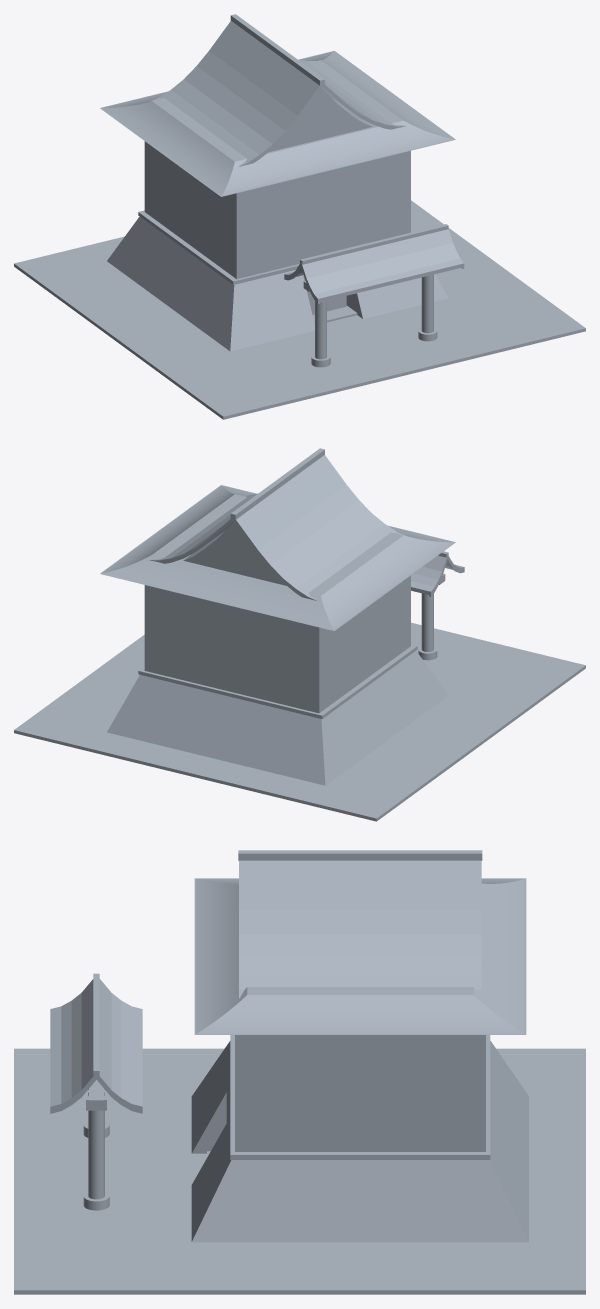
File: sakura.glb
3 renders of one model, top to bottom at view 1: azimuth 30°, elevation 25°; view 2: azimuth 150°, elevation 25°; view 3: azimuth 270°, elevation 25°, orthographic. The views are drawn at different scales.
Parts seen in each view (by area): view 1: sakura-lawn-canteiro, sakura-lime-paredes, sakura-redTile-saia-do-telhado, sakura-fieldstone-embasamento, sakura-redTile-telhado-alto, sakura-redTile-telhado-do-portal, sakura-fieldstone-frontoes, sakura-fieldstone-beiralBase, sakura-vermilion-testeira-frontal, sakura-vermilion-cumeeira, sakura-vermilion-cumeeira-do-portal, sakura-vermilion-beiral-curvo (+2 smaller); view 2: sakura-lawn-canteiro, sakura-lime-paredes, sakura-fieldstone-embasamento, sakura-redTile-saia-do-telhado, sakura-redTile-telhado-alto, sakura-fieldstone-frontoes, sakura-fieldstone-beiralBase, sakura-vermilion-cumeeira, sakura-vermilion-testeira-traseira, sakura-redTile-telhado-do-portal, sakura-vermilion-beiral-curvo, sakura-vermilion-coluna-esq; view 3: sakura-lawn-canteiro, sakura-fieldstone-embasamento, sakura-redTile-telhado-alto, sakura-lime-paredes, sakura-redTile-saia-do-telhado, sakura-redTile-telhado-do-portal, sakura-fieldstone-beiralBase, sakura-vermilion-cumeeira, sakura-vermilion-coluna-dir, sakura-vermilion-beiral-curvo, sakura-vermilion-portal-detalhe-direito, sakura-vermilion-cumeeira-do-portal.
Part boxes in pixels (bbox=[...]): sakura-lawn-canteiro: bbox=[14, 200, 585, 419]; sakura-lime-paredes: bbox=[144, 141, 410, 279]; sakura-redTile-saia-do-telhado: bbox=[101, 51, 455, 196]; sakura-fieldstone-embasamento: bbox=[107, 216, 448, 351]; sakura-redTile-telhado-alto: bbox=[159, 21, 398, 163]; sakura-redTile-telhado-do-portal: bbox=[286, 229, 463, 302]; sakura-fieldstone-frontoes: bbox=[268, 88, 372, 152]; sakura-fieldstone-beiralBase: bbox=[138, 210, 411, 284]; sakura-vermilion-testeira-frontal: bbox=[238, 85, 406, 166]; sakura-vermilion-cumeeira: bbox=[230, 14, 324, 85]; sakura-vermilion-cumeeira-do-portal: bbox=[300, 224, 448, 264]; sakura-vermilion-beiral-curvo: bbox=[100, 51, 455, 196]; sakura-lawn-canteiro: bbox=[14, 622, 585, 821]; sakura-lime-paredes: bbox=[144, 575, 410, 713]; sakura-fieldstone-embasamento: bbox=[107, 651, 448, 785]; sakura-redTile-saia-do-telhado: bbox=[101, 485, 453, 630]; sakura-redTile-telhado-alto: bbox=[158, 455, 399, 597]; sakura-fieldstone-frontoes: bbox=[183, 522, 286, 585]; sakura-fieldstone-beiralBase: bbox=[138, 644, 417, 718]; sakura-vermilion-cumeeira: bbox=[230, 448, 324, 519]; sakura-vermilion-testeira-traseira: bbox=[150, 519, 316, 600]; sakura-redTile-telhado-do-portal: bbox=[411, 555, 461, 594]; sakura-vermilion-beiral-curvo: bbox=[100, 485, 455, 630]; sakura-vermilion-coluna-esq: bbox=[421, 593, 433, 651]; sakura-lawn-canteiro: bbox=[14, 1048, 585, 1294]; sakura-fieldstone-embasamento: bbox=[191, 1041, 528, 1242]; sakura-redTile-telhado-alto: bbox=[241, 860, 478, 994]; sakura-lime-paredes: bbox=[235, 1035, 485, 1151]; sakura-redTile-saia-do-telhado: bbox=[195, 879, 525, 1034]; sakura-redTile-telhado-do-portal: bbox=[50, 980, 142, 1105]; sakura-fieldstone-beiralBase: bbox=[230, 1035, 490, 1159]; sakura-vermilion-cumeeira: bbox=[238, 850, 482, 860]; sakura-vermilion-coluna-dir: bbox=[88, 1090, 104, 1199]; sakura-vermilion-beiral-curvo: bbox=[194, 878, 526, 1034]; sakura-vermilion-portal-detalhe-direito: bbox=[50, 1072, 142, 1113]; sakura-vermilion-cumeeira-do-portal: bbox=[93, 973, 99, 1075].
Bounding box in the file's own units: 23.2 × 14.39 × 23.2.
